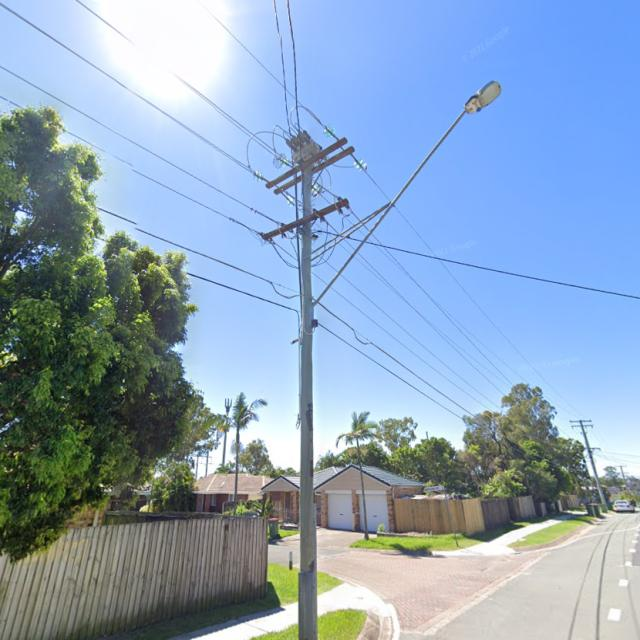HV-switch: (285, 129, 328, 167)
HV-transmission: (254, 125, 368, 207), (570, 419, 601, 451)
crossarm: (265, 136, 348, 189), (274, 145, 355, 195), (263, 198, 351, 240), (570, 420, 592, 423), (584, 447, 600, 450), (571, 425, 593, 427)
streetlight: (308, 80, 502, 307)
timber-pole: (299, 167, 318, 640), (579, 419, 609, 511)
